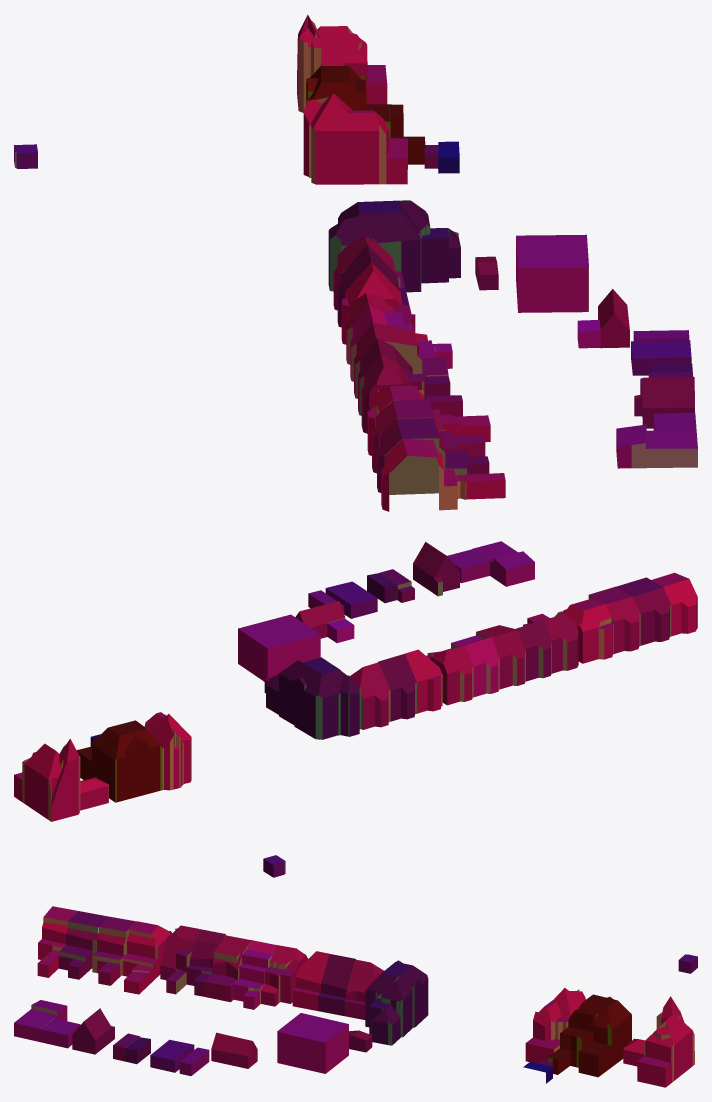
Rendered from buildings_5_13.glb.
3 renders of one model, top to bottom at view 1: azimuth 30°, elevation 25°; view 2: azimuth 150°, elevation 25°; view 3: azimuth 270°, elevation 25°, orthographic. The views are drawn at different scales.
Visible parts, largest first — view 1: buildings_5_13; view 2: buildings_5_13; view 3: buildings_5_13.
Part boxes in pixels (<box>): buildings_5_13: <box>14,14,697,511</box>; buildings_5_13: <box>14,541,697,877</box>; buildings_5_13: <box>14,906,697,1087</box>.
Bounding box in the file's own units: 77.56 × 16.19 × 152.
